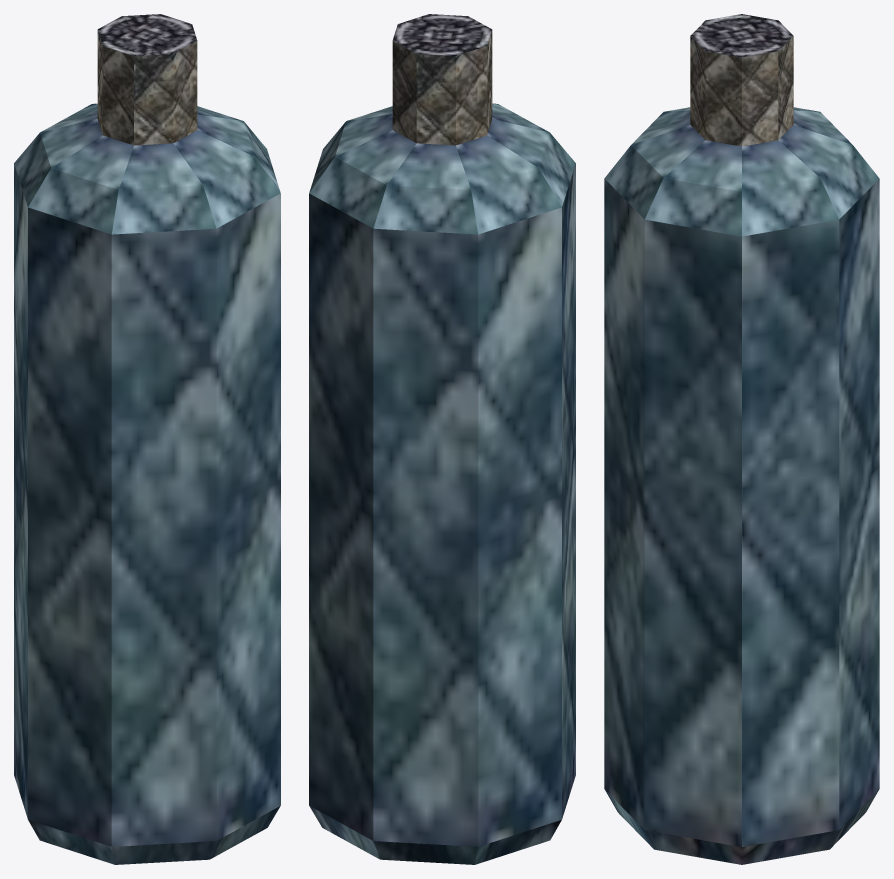
File: ITDR_WATER.glb
3 renders of one model, left to right at view 1: azimuth 30°, elevation 25°; view 2: azimuth 150°, elevation 25°; view 3: azimuth 270°, elevation 25°, orthographic.
Visible parts, largest first — view 1: ITDR_WATER; view 2: ITDR_WATER; view 3: ITDR_WATER.
Part boxes in pixels (left/top/right/bottom): ITDR_WATER: left=14, top=14, right=280, bottom=864; ITDR_WATER: left=309, top=14, right=575, bottom=864; ITDR_WATER: left=604, top=14, right=879, bottom=864.
Bounding box in the file's own units: 0.11 × 0.3425 × 0.11.
1 material, 1 textured.
